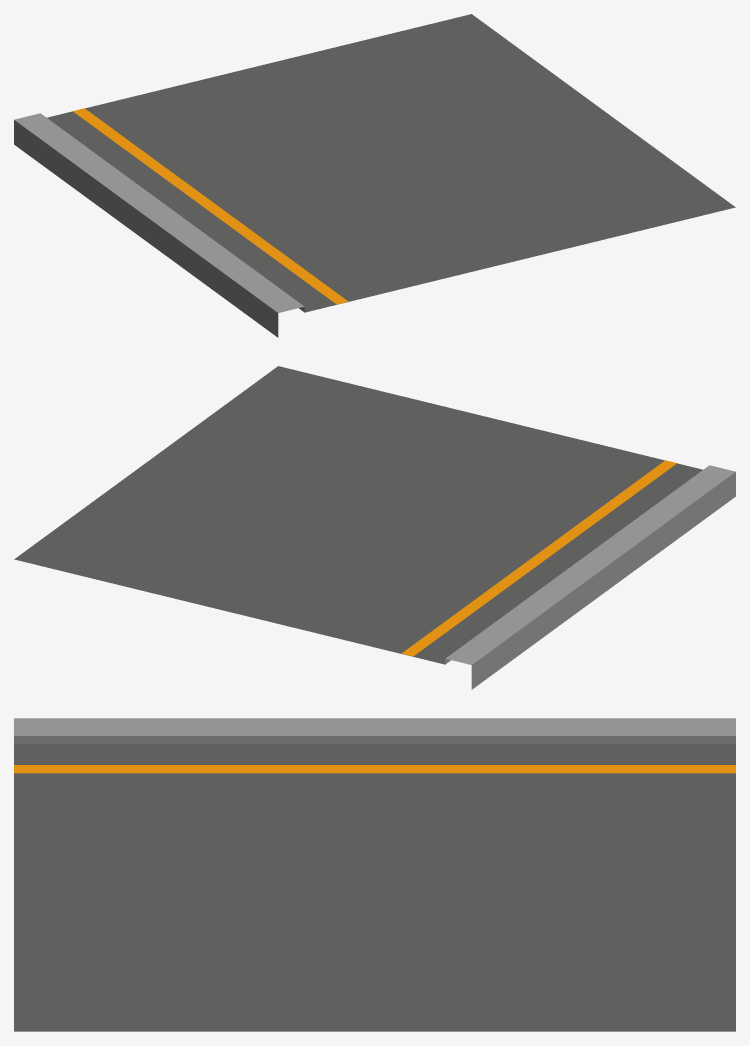
Rendered from ParkingRoad_B_4.fbx.
The picture shows the model from 3 angles, top to bottom: view 1: azimuth 30°, elevation 25°; view 2: azimuth 150°, elevation 25°; view 3: azimuth 270°, elevation 25°; orthographic projection. The views are drawn at different scales.
Visible parts, largest first — view 1: ParkingRoad_B_4; view 2: ParkingRoad_B_4; view 3: ParkingRoad_B_4.
Boxes of the visible parts, <box> form: ParkingRoad_B_4: <box>14,14,735,337</box>; ParkingRoad_B_4: <box>14,366,735,689</box>; ParkingRoad_B_4: <box>14,718,735,1031</box>.
Bounding box in the file's own units: 800 × 41.48 × 800.
